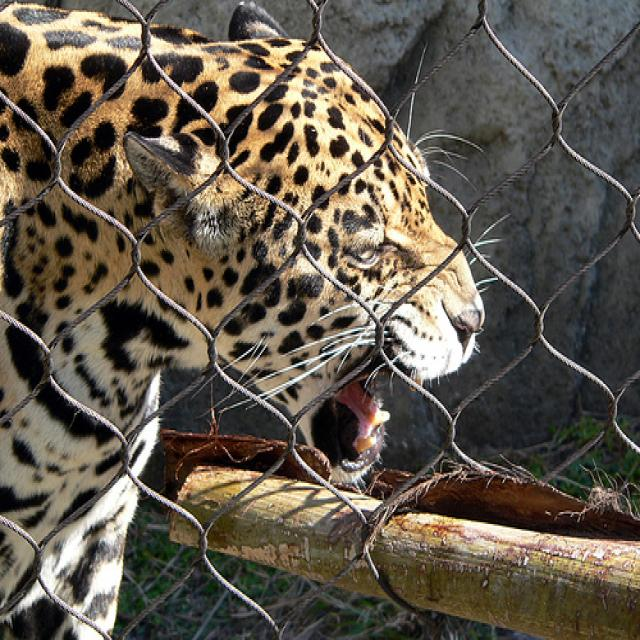Leopard: (0, 0, 485, 637)
